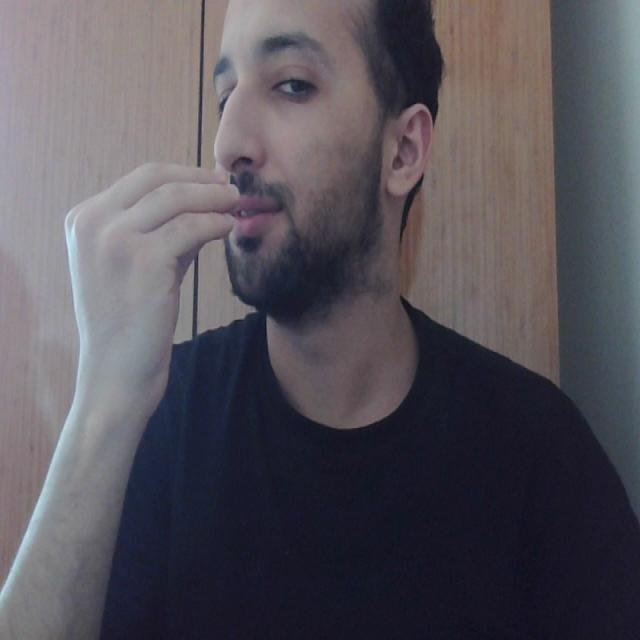Yemek: (52, 160, 255, 256)
